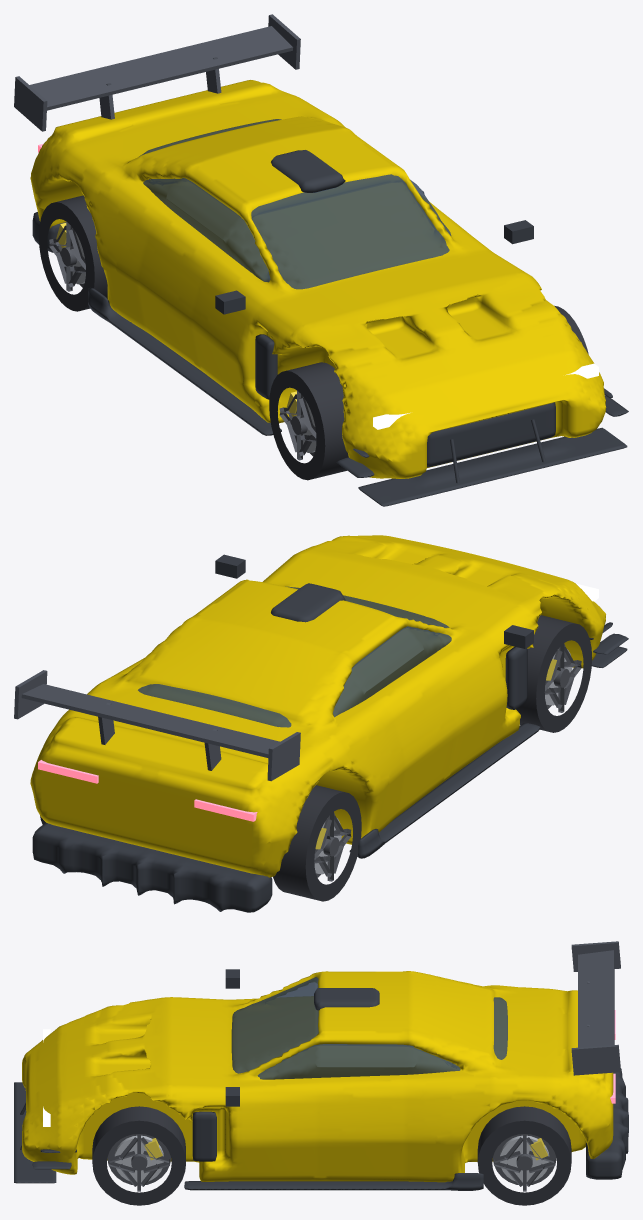
The model's file is sidewinder.glb.
The picture shows the model from 3 angles, top to bottom: view 1: azimuth 30°, elevation 25°; view 2: azimuth 150°, elevation 25°; view 3: azimuth 270°, elevation 25°; orthographic projection. The views are drawn at different scales.
Visible parts, largest first — view 1: Bodywork, CarbonAero (×3), CanopyGlass, TireRubber, ForgedRim; view 2: Bodywork, CarbonAero (×3), TireRubber, CanopyGlass, ForgedRim, TaillightLED; view 3: Bodywork, CarbonAero (×3), CanopyGlass, TireRubber, ForgedRim, BrakeRotor, BrakeCaliper.
Boxes of the visible parts, <box> form: Bodywork: <box>30,80,606,478</box>; CarbonAero (×3): <box>14,14,628,506</box>; CanopyGlass: <box>139,119,451,289</box>; TireRubber: <box>38,195,588,480</box>; ForgedRim: <box>49,221,316,460</box>; Bodywork: <box>30,535,605,877</box>; CarbonAero (×3): <box>14,554,628,912</box>; TireRubber: <box>40,615,592,901</box>; CanopyGlass: <box>138,586,451,727</box>; ForgedRim: <box>314,643,581,881</box>; TaillightLED: <box>38,760,257,821</box>; Bodywork: <box>22,971,613,1182</box>; CarbonAero (×3): <box>14,941,628,1190</box>; CanopyGlass: <box>231,977,507,1079</box>; TireRubber: <box>92,1106,571,1205</box>; ForgedRim: <box>107,1134,556,1191</box>; BrakeRotor: <box>114,1135,549,1182</box>; BrakeCaliper: <box>144,1138,547,1160</box>.
Size of the model in its own units: 2.3 by 1.33 by 4.72.
